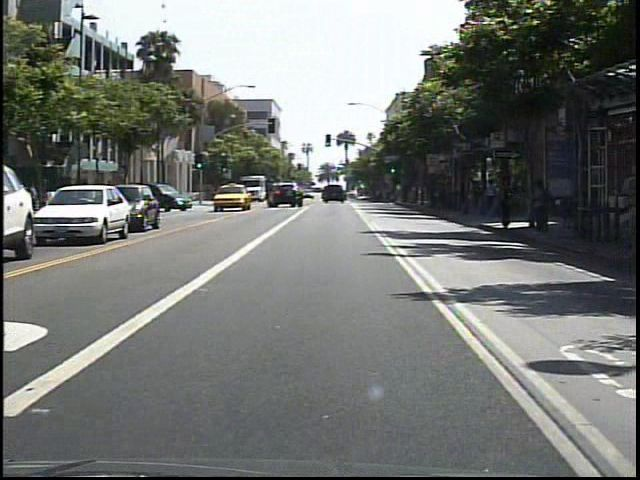person: (499, 164, 522, 233), (531, 177, 555, 242), (487, 178, 503, 218)
